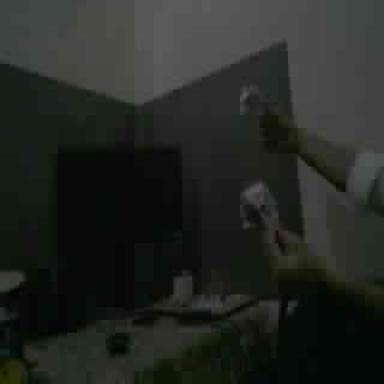paper: (240, 182, 277, 227), (241, 88, 268, 115)
